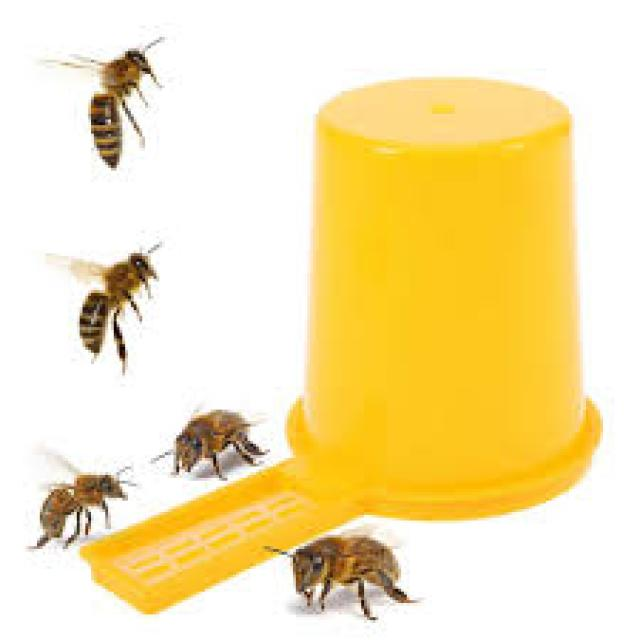Bees: (38, 32, 168, 174), (43, 239, 164, 375), (263, 525, 426, 621), (24, 441, 138, 552), (148, 400, 272, 486)
